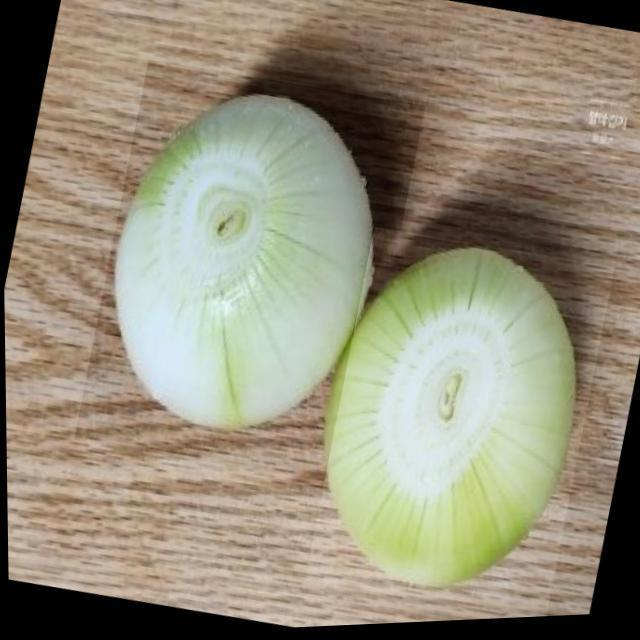Onion: (68, 51, 430, 498), (298, 222, 618, 630)
